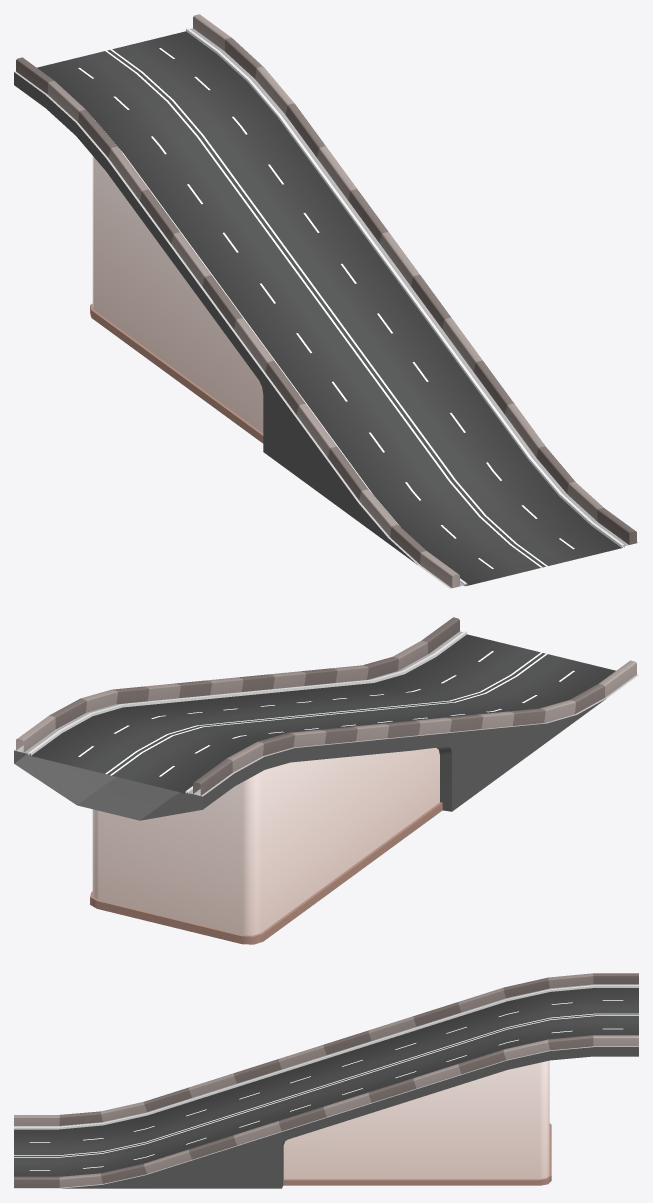
File: road_015.glb
3 views of the same model, one above another, from view 1: azimuth 30°, elevation 25°; view 2: azimuth 150°, elevation 25°; view 3: azimuth 270°, elevation 25° (orthographic). The views are drawn at different scales.
Parts seen in each view (by area): view 1: road_015; view 2: road_015; view 3: road_015.
Part boxes in pixels (<box>): road_015: <box>14,14,638,588</box>; road_015: <box>14,617,638,944</box>; road_015: <box>14,973,638,1188</box>.
Bounding box in the file's own units: 15 × 16.04 × 60.
1 material, 1 textured.
